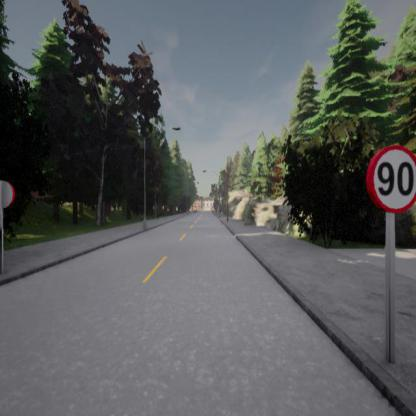traffic_sign_90: (366, 145, 416, 212)
